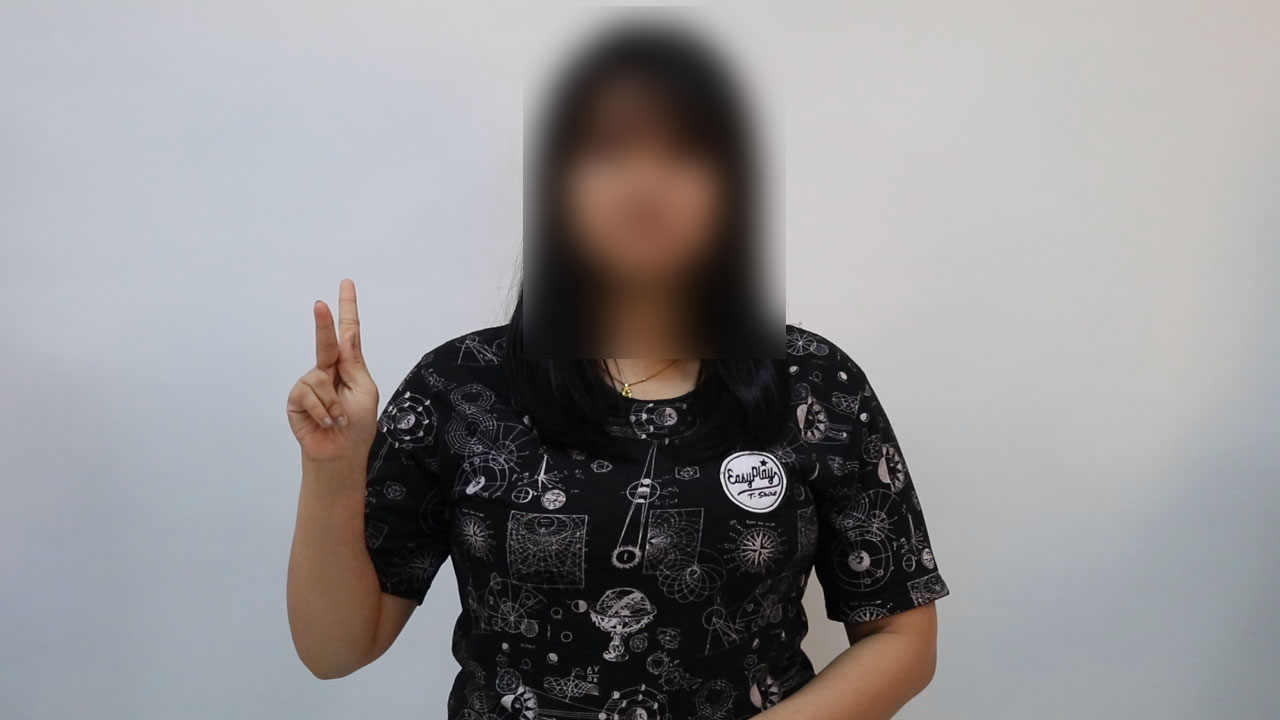ko: (256, 261, 433, 480)
